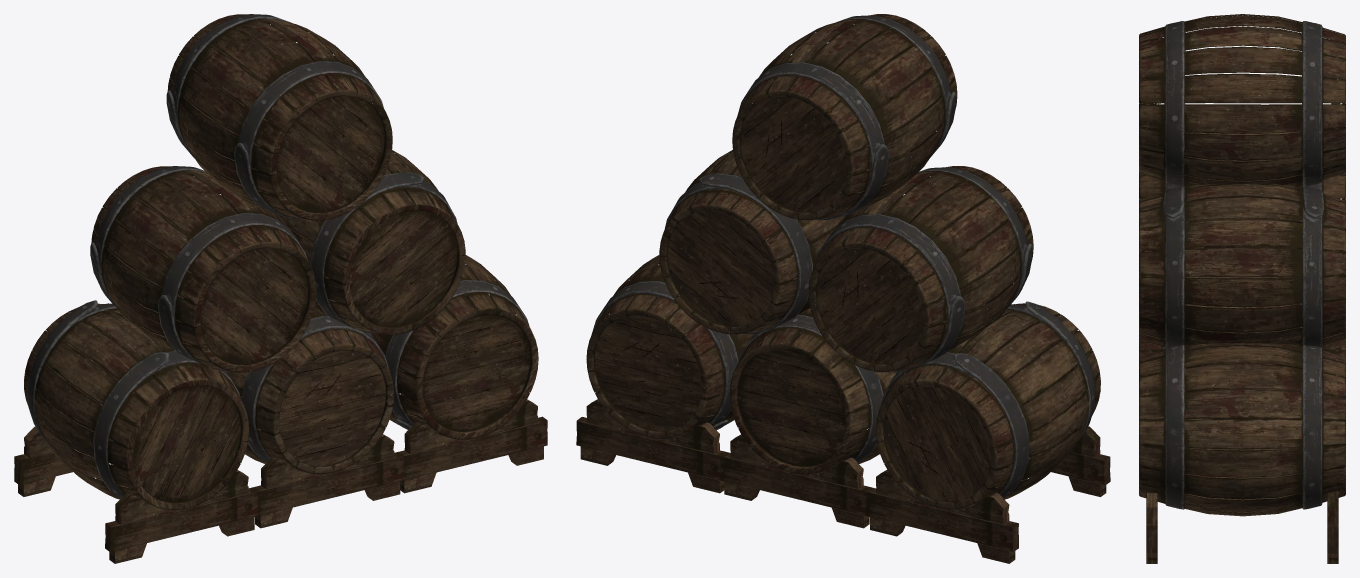
3 views of the same model, side by side, from view 1: azimuth 30°, elevation 25°; view 2: azimuth 150°, elevation 25°; view 3: azimuth 270°, elevation 25° (orthographic).
Parts seen in each view (by area): view 1: SM_Garou_Barrel_03_LOD0; view 2: SM_Garou_Barrel_03_LOD0; view 3: SM_Garou_Barrel_03_LOD0.
Part boxes in pixels (x1,y1,x2,y2): SM_Garou_Barrel_03_LOD0: [14, 14, 547, 563]; SM_Garou_Barrel_03_LOD0: [576, 14, 1110, 563]; SM_Garou_Barrel_03_LOD0: [1139, 14, 1345, 563].
Size of the model in its own units: 3.54 by 3.35 by 1.44.
Materials: 1 (1 with a texture image).
